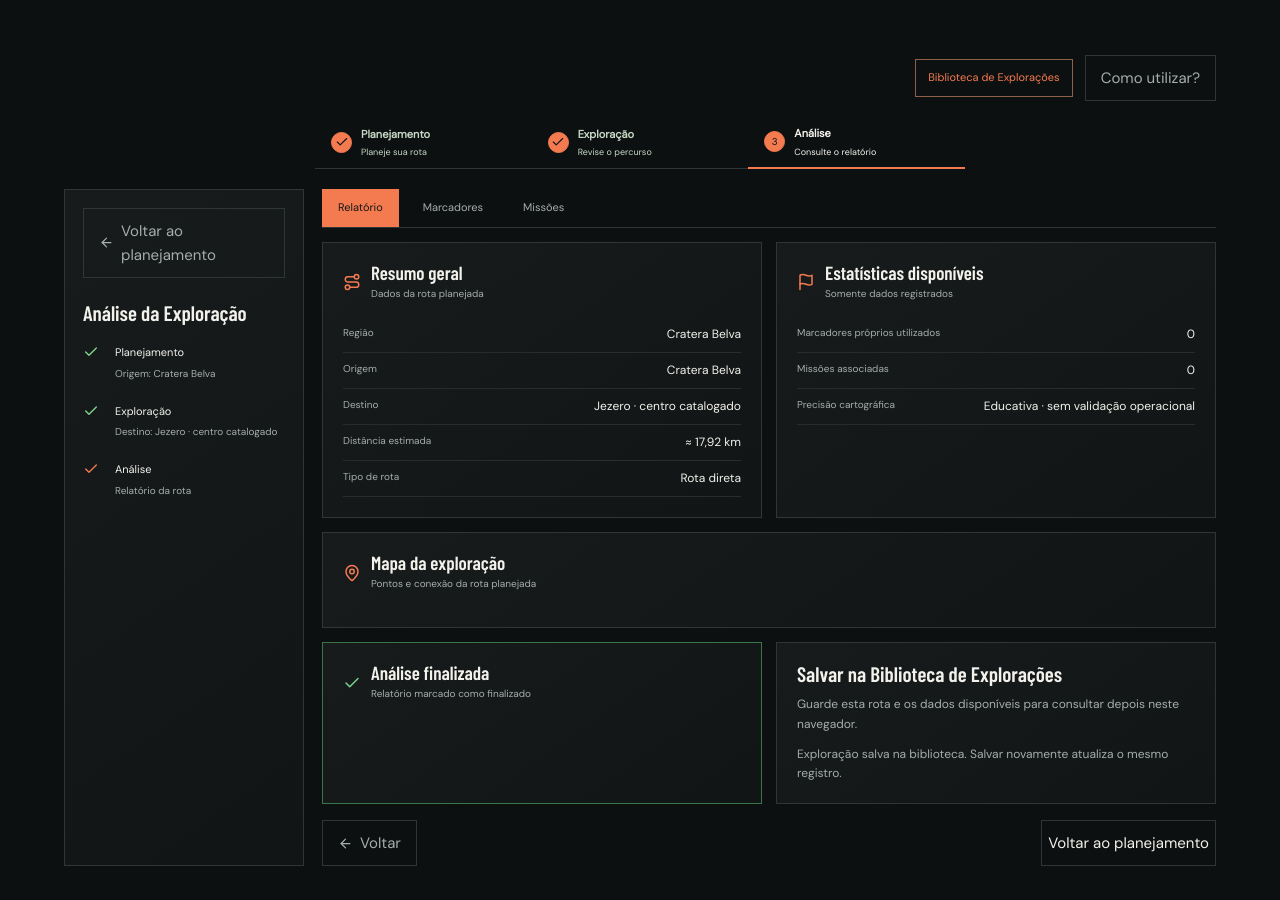
Test: fluxo planejamento, exploração e análise › reabre uma exploração salva diretamente na análise com as coordenadas originais
The width and height of the screenshot is (1280, 900).
Expected: the heading "Análise da Exploração" is shown, x1=83 y1=300 x2=247 y2=325
Click the tab "Marcadores". click: (453, 208)
box: x1=407 y1=189 x2=499 y2=227
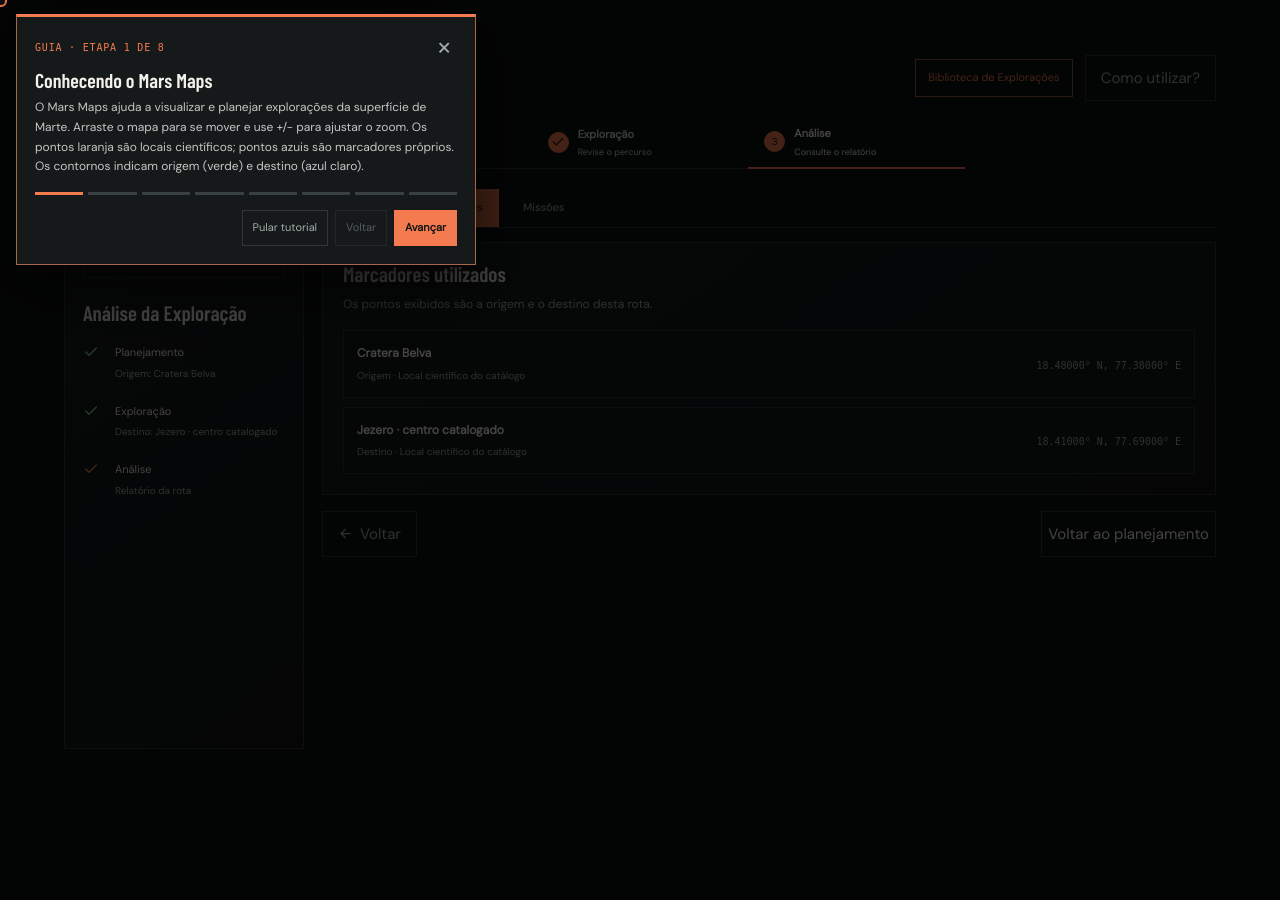
Expected: the text "18.41000° N, 77.69000° E" is shown, x1=1036 y1=434 x2=1181 y2=450
